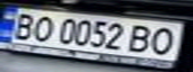0: (51, 16, 78, 46), (72, 17, 93, 47)
2: (103, 19, 130, 52)
5: (90, 18, 112, 50)
B: (124, 21, 160, 54), (3, 10, 42, 40)
O: (145, 25, 184, 56), (27, 14, 57, 43)
